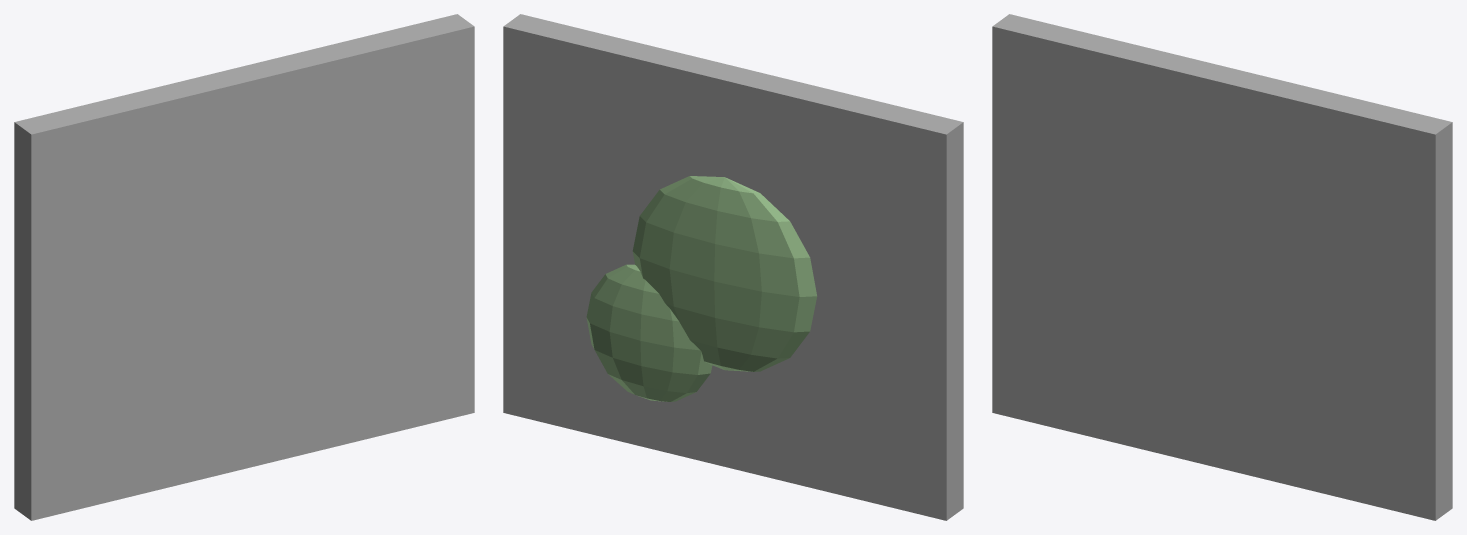
Rendered from ivy_patch.glb.
3 renders of one model, left to right at view 1: azimuth 30°, elevation 25°; view 2: azimuth 150°, elevation 25°; view 3: azimuth 330°, elevation 25°, orthographic.
Visible parts, largest first — view 1: wall; view 2: wall, ivy, ivy2; view 3: wall.
Boxes of the visible parts, x1=… form: wall: x1=14, y1=14, x2=474, y2=520; wall: x1=503, y1=14, x2=963, y2=520; ivy: x1=632, y1=176, x2=817, y2=371; ivy2: x1=586, y1=264, x2=712, y2=401; wall: x1=992, y1=14, x2=1452, y2=520.
Size of the model in its own units: 2.4 by 2 by 0.2602.
